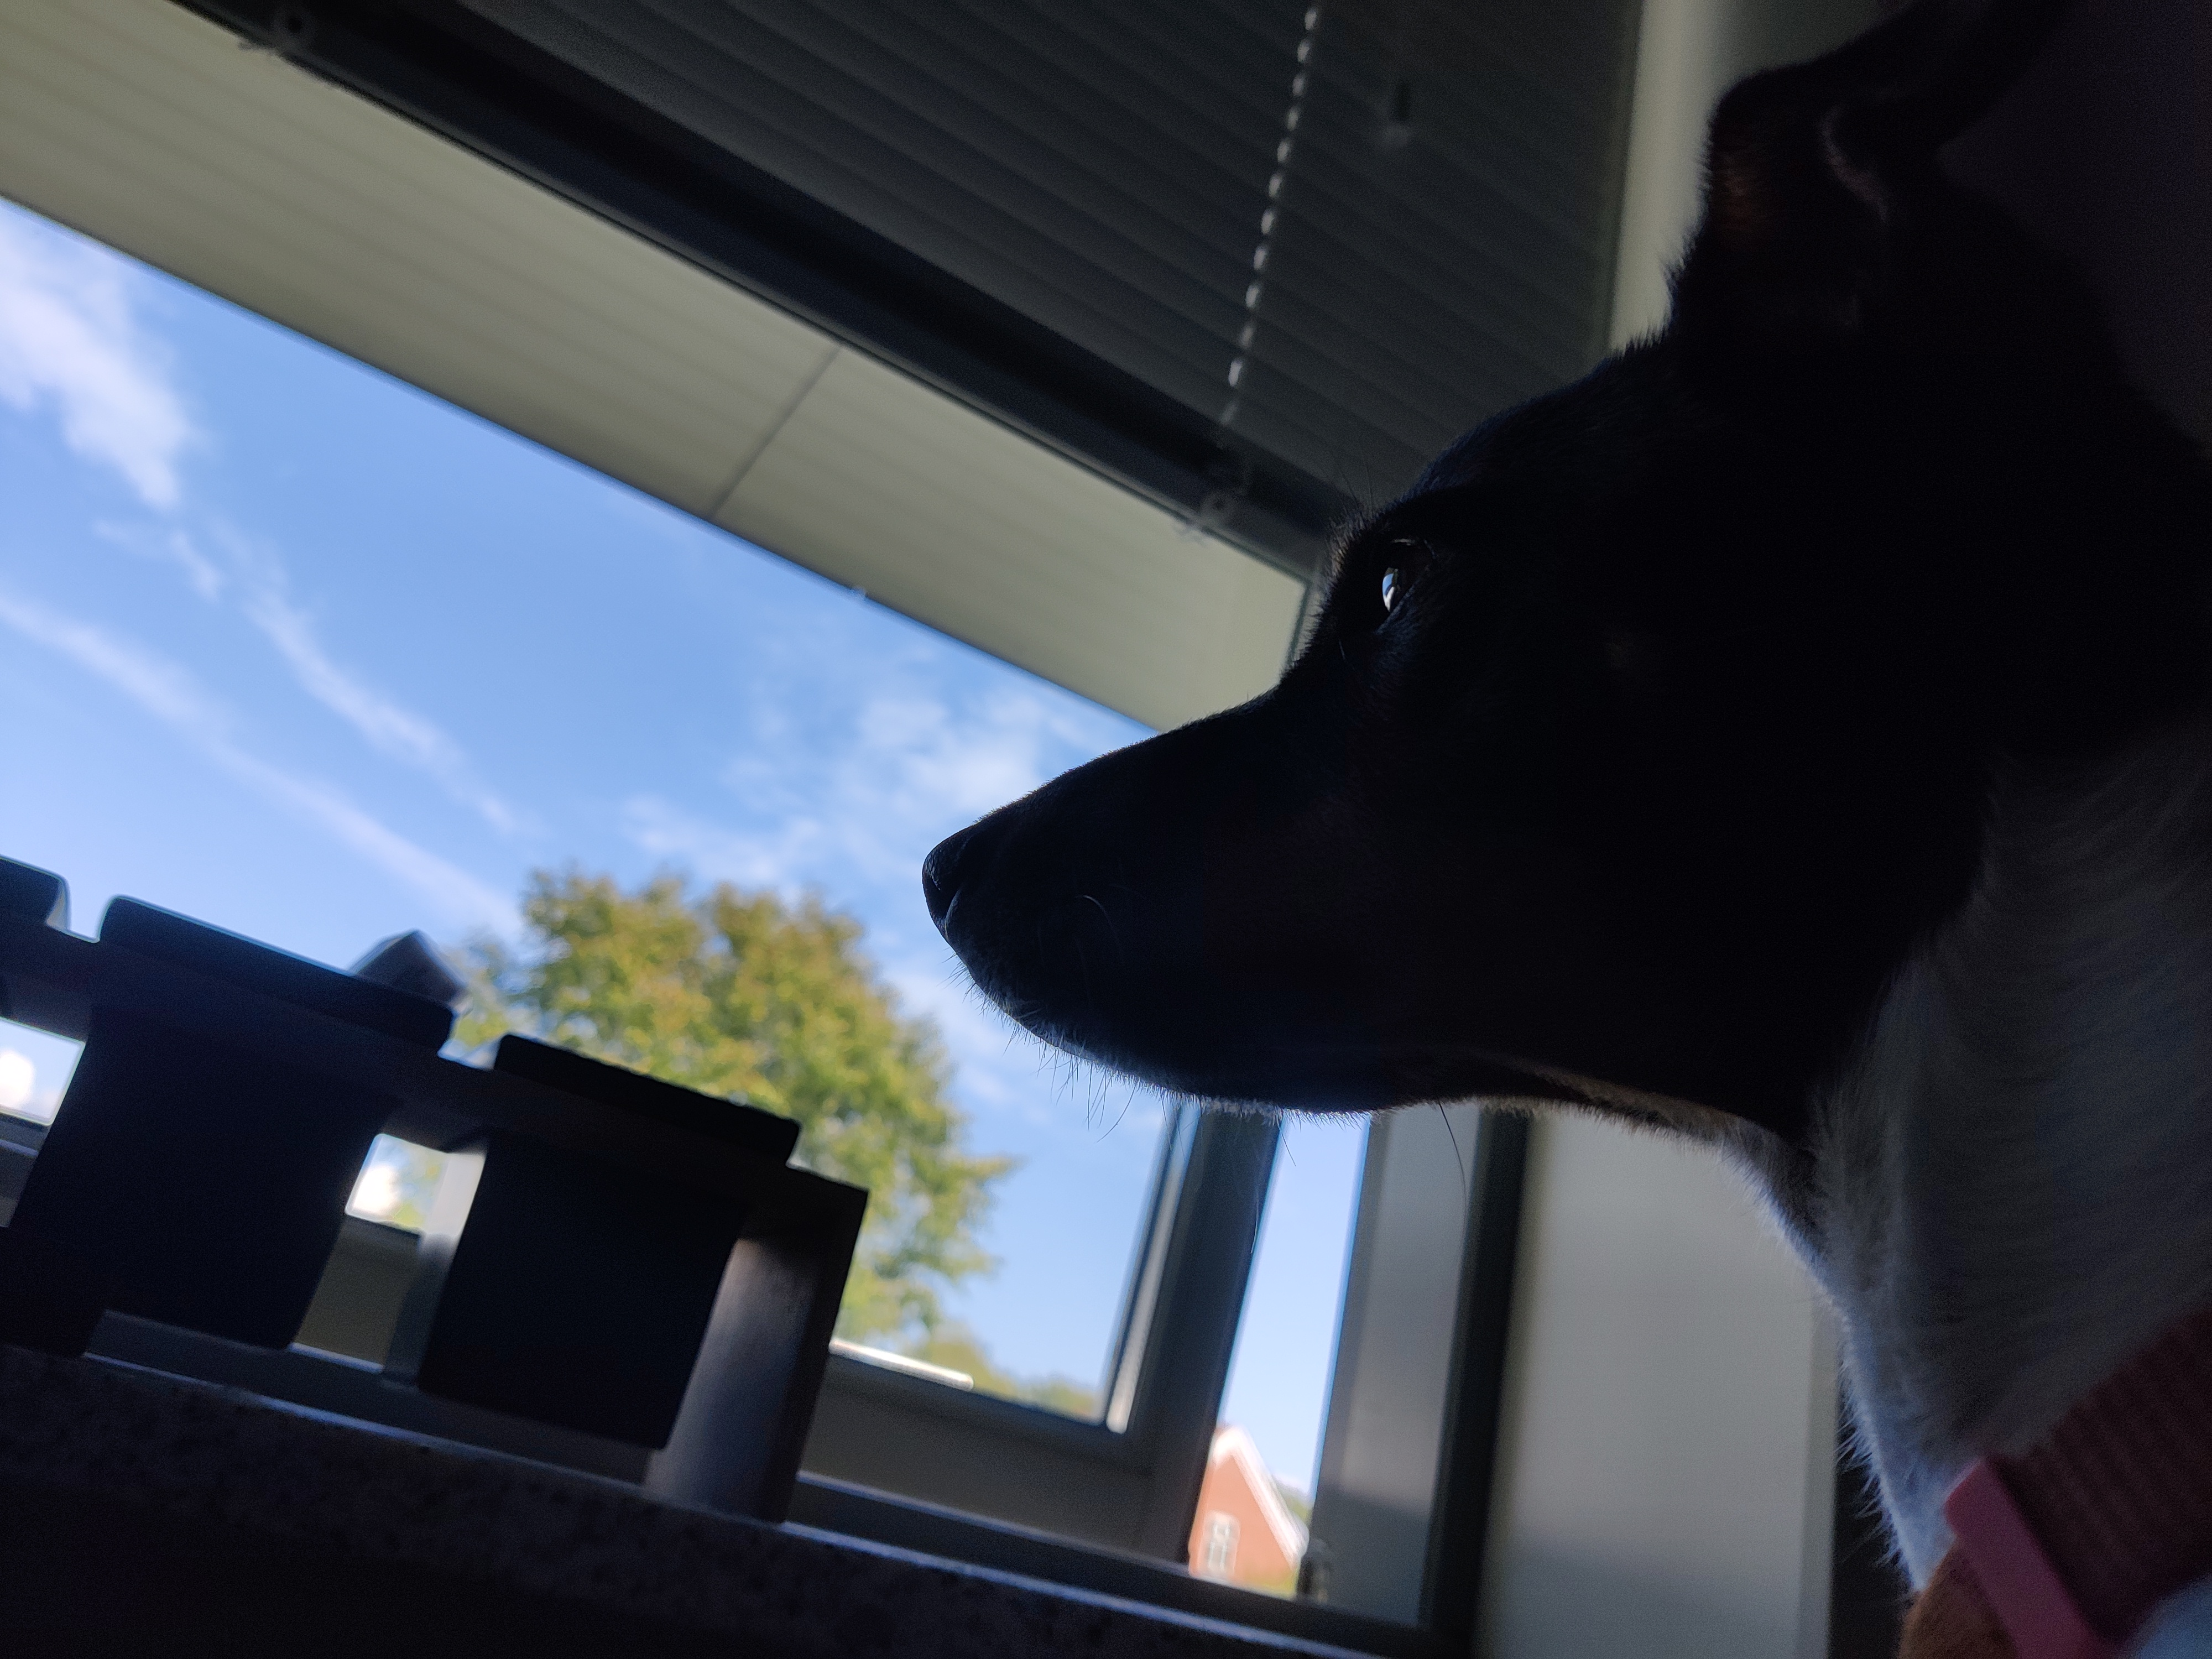Dog: (916, 0, 2212, 1659)
